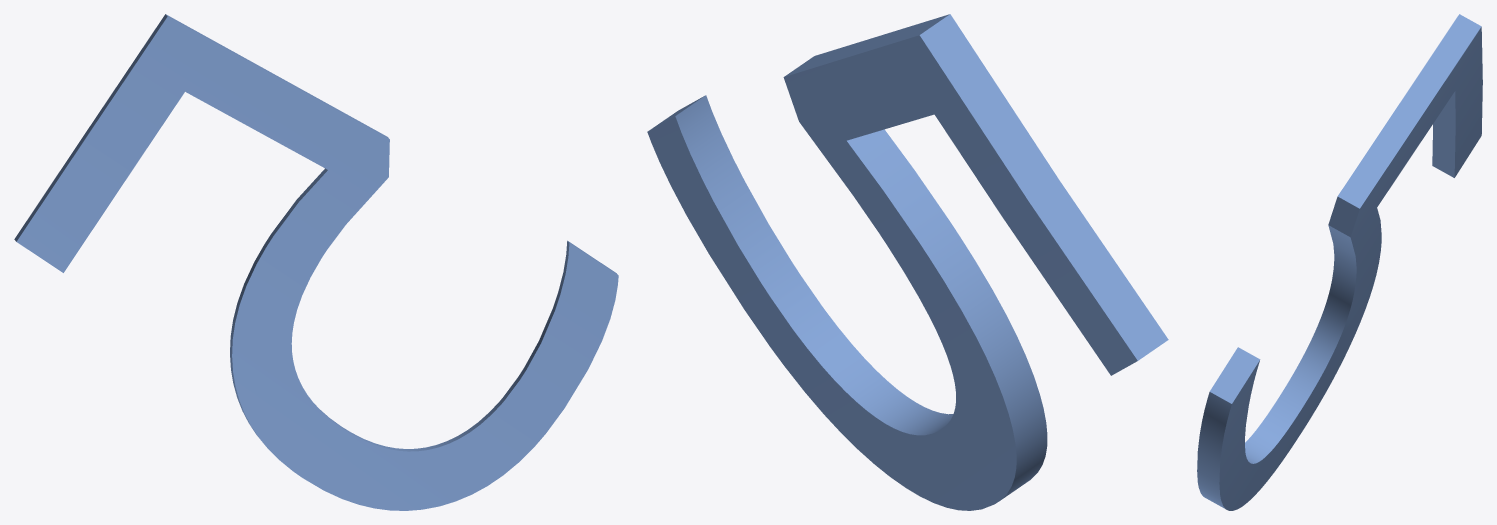
The model's file is Number_5.gltf.
3 views of the same model, side by side, from view 1: azimuth 30°, elevation 25°; view 2: azimuth 150°, elevation 25°; view 3: azimuth 270°, elevation 25° (orthographic). The views are drawn at different scales.
Visible parts, largest first — view 1: Sub_7_Cell_1_3_Number_5; view 2: Sub_7_Cell_1_3_Number_5; view 3: Sub_7_Cell_1_3_Number_5.
Part boxes in pixels (x1,y1,x2,y2): Sub_7_Cell_1_3_Number_5: (14,14,618,510); Sub_7_Cell_1_3_Number_5: (647,14,1168,510); Sub_7_Cell_1_3_Number_5: (1197,14,1482,510).
Size of the model in its own units: 0.0256 by 0.0226 by 0.0139.
